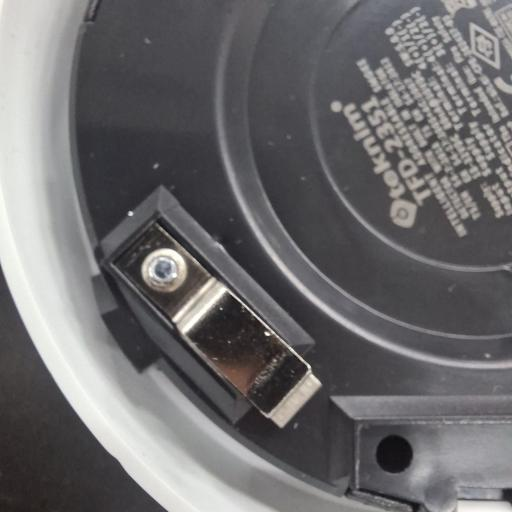yayli: (106, 213, 320, 426)
